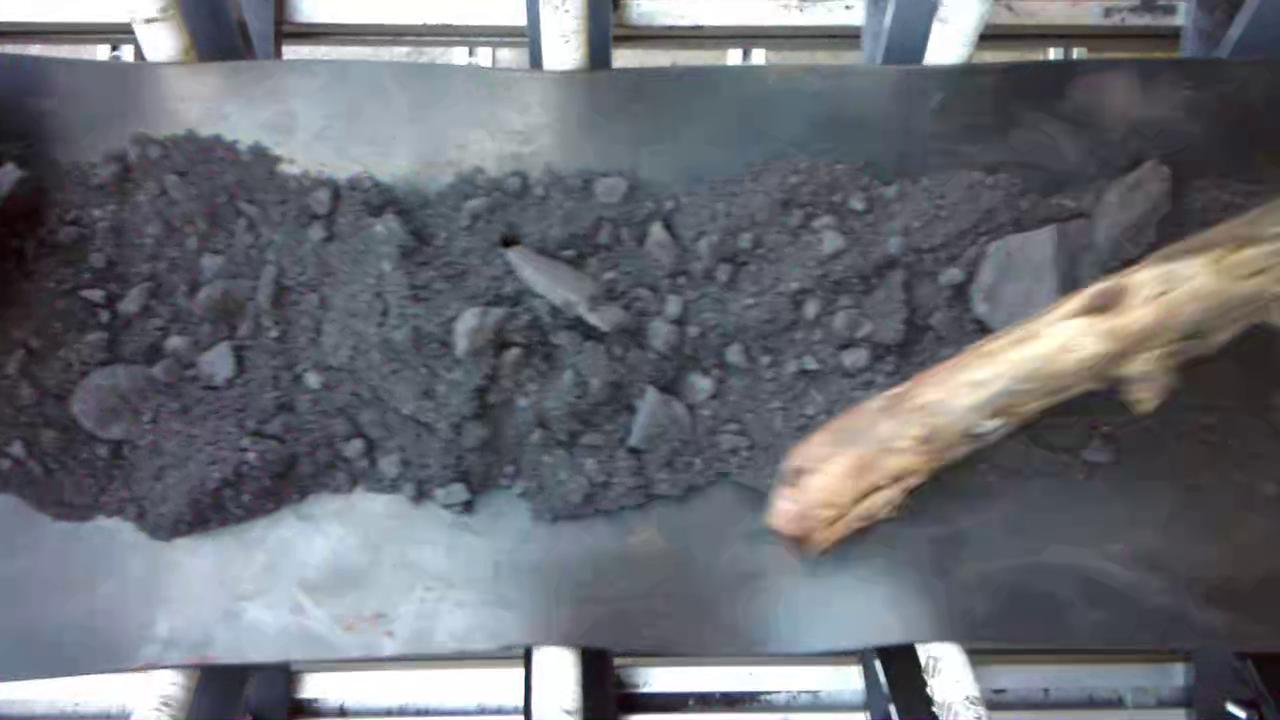conveyor: (7, 77, 1271, 639)
